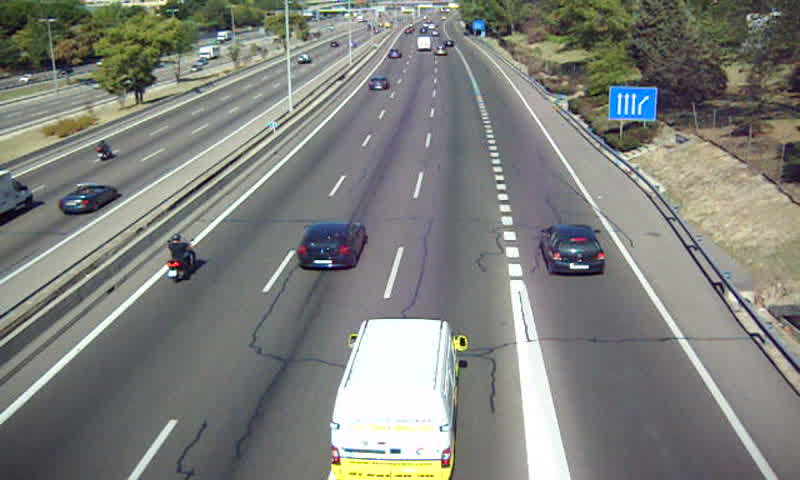car: (298, 220, 365, 271), (541, 226, 606, 275), (367, 76, 391, 93)
motorcycle: (166, 233, 197, 284)
van: (330, 319, 457, 480)
